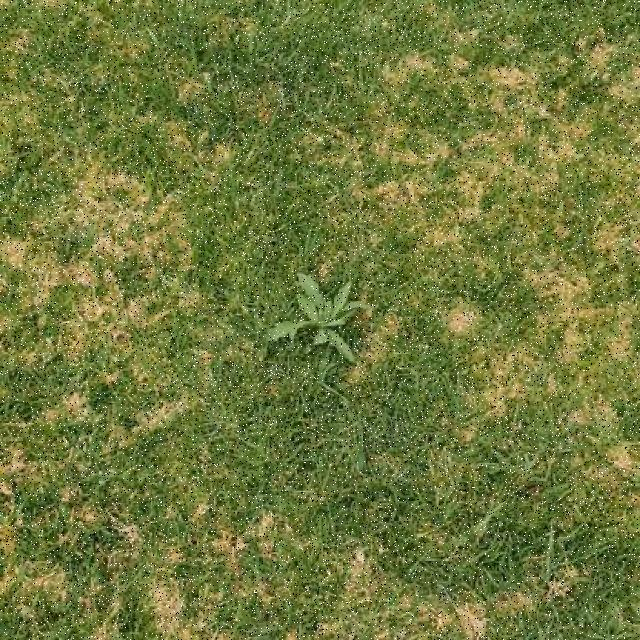weed: (266, 274, 369, 362)
